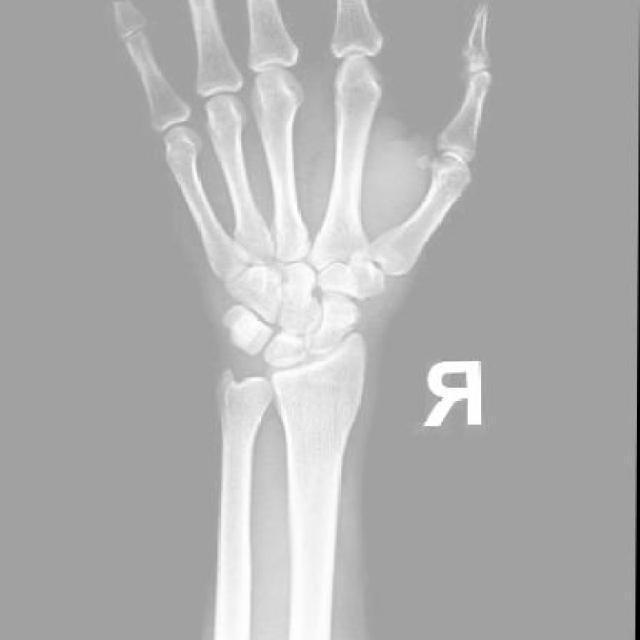Fracture: (320, 309, 363, 337)
